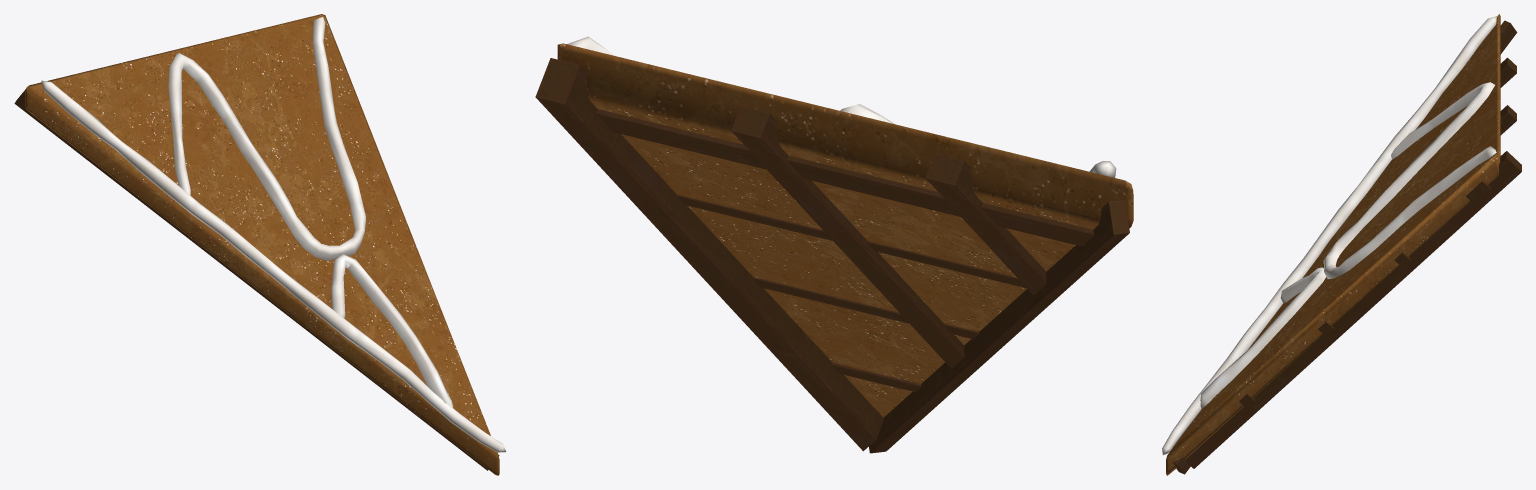
The model's file is roof.gingerbread.corner.90.concave.l.glb.
3 views of the same model, side by side, from view 1: azimuth 30°, elevation 25°; view 2: azimuth 150°, elevation 25°; view 3: azimuth 270°, elevation 25° (orthographic). The views are drawn at different scales.
Parts seen in each view (by area): view 1: roof.corner.90.concave.L_LOD0; view 2: roof.corner.90.concave.L_LOD0; view 3: roof.corner.90.concave.L_LOD0.
Boxes of the visible parts, <box> form: roof.corner.90.concave.L_LOD0: <box>14,14,506,475</box>; roof.corner.90.concave.L_LOD0: <box>535,36,1133,453</box>; roof.corner.90.concave.L_LOD0: <box>1162,14,1521,475</box>.
Bounding box in the file's own units: 3.08 × 3.2 × 3.2.
Materials: 3 (3 with a texture image).
